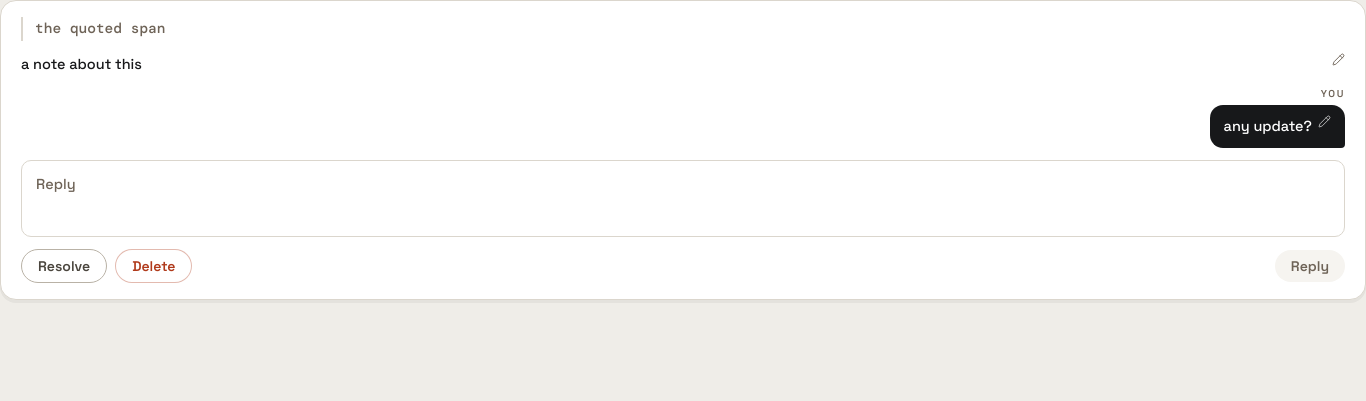
Test: <NoteThread /> › a failed reply edit renders inline, without leaving the edit view
Click the button named "Edit reply": x=1324, y=122 x1=1318 y1=115 x2=1331 y2=128
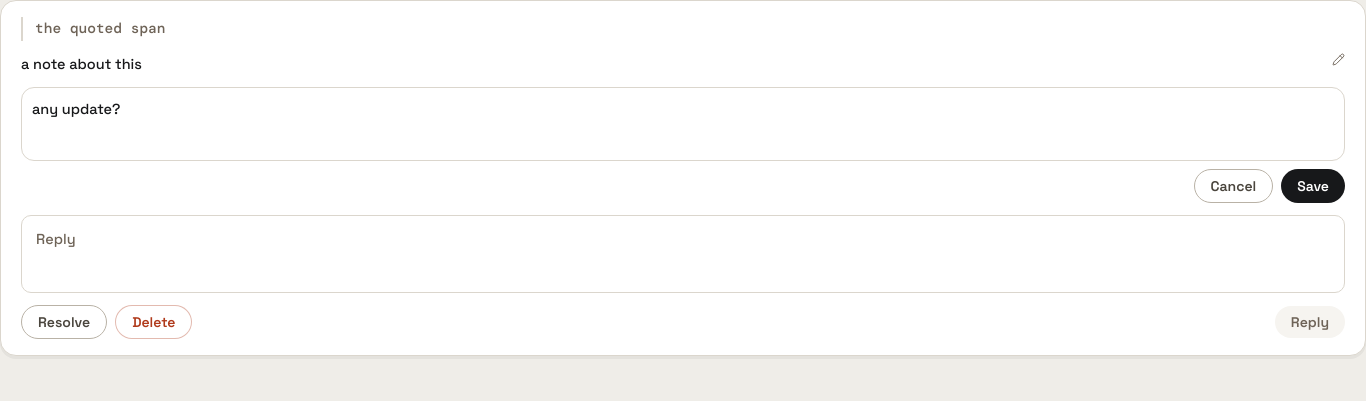
Click the button "Save": x=1313, y=186 x1=1281 y1=169 x2=1345 y2=203
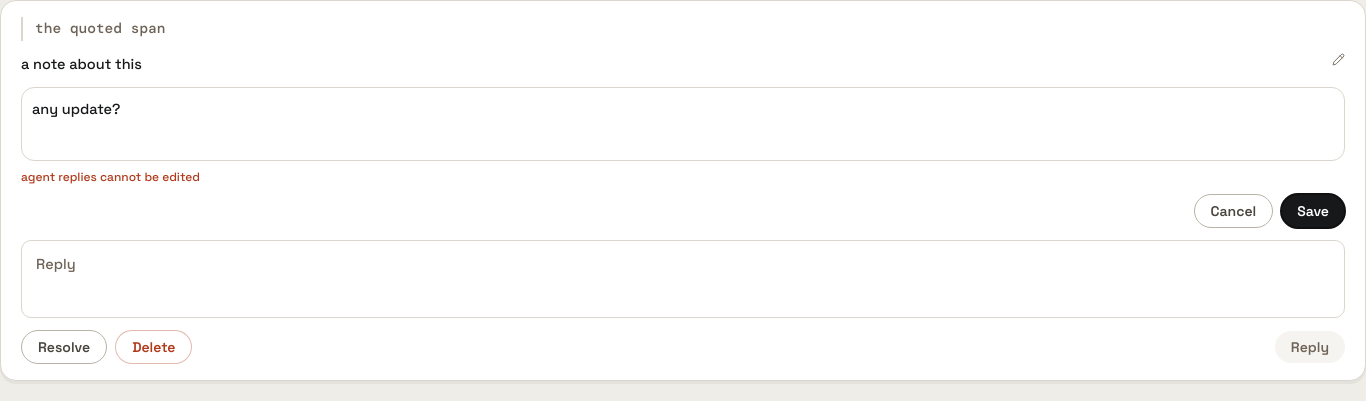
Now the text box showing "any update?" is shown, box x1=32 y1=98 x2=1334 y2=143
Now the message reads "agent replies cannot be edited", box x1=21 y1=169 x2=200 y2=185
